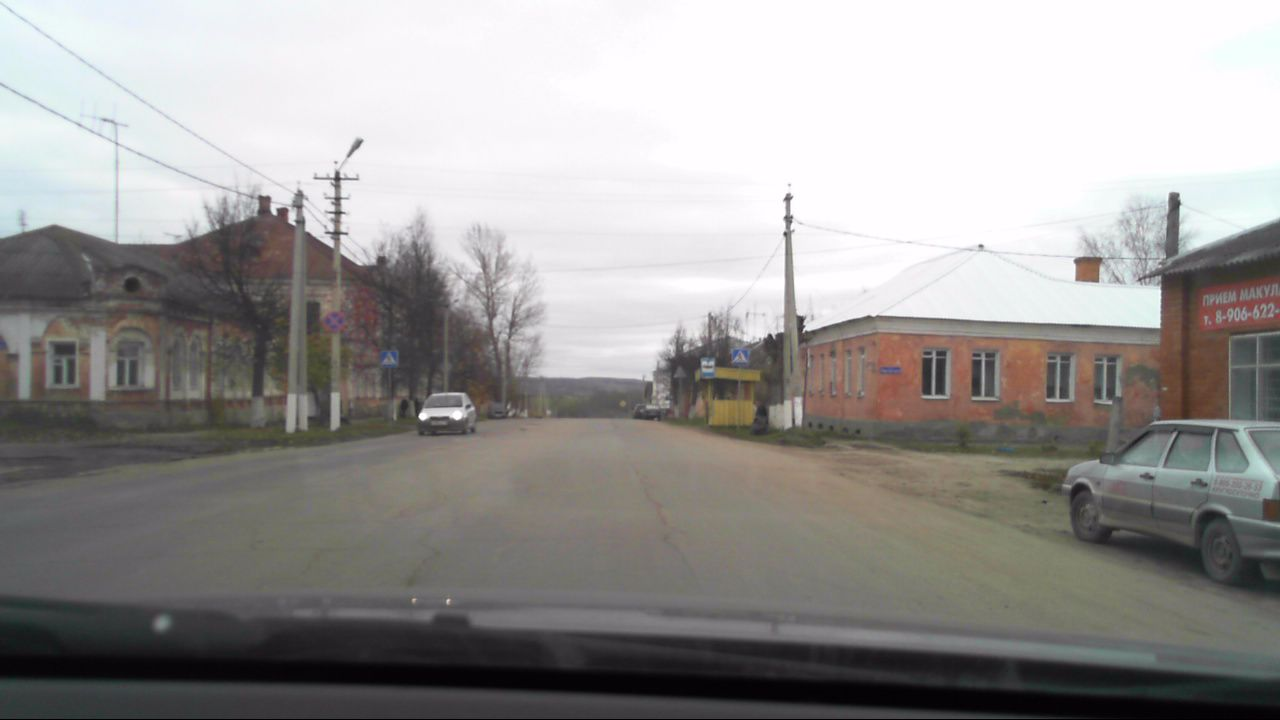No Parking: (324, 309, 346, 332)
